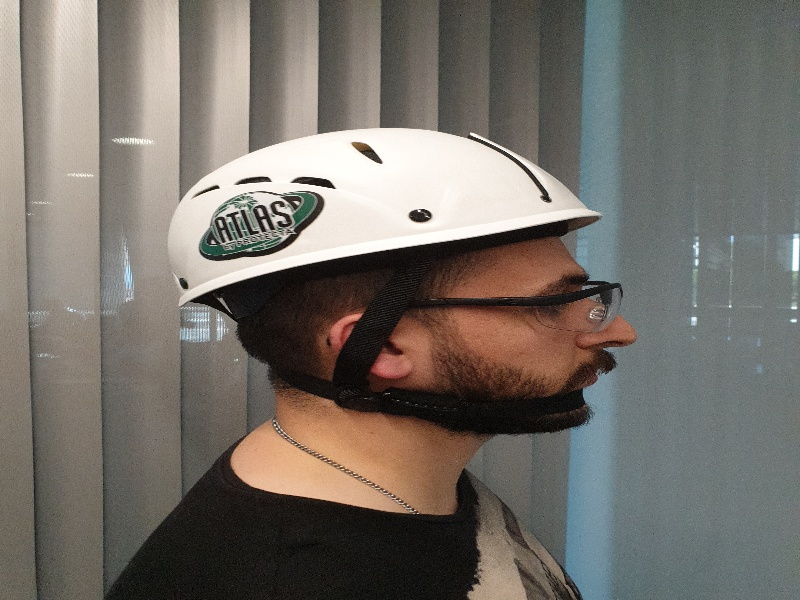Baret: (165, 110, 603, 284)
Gozluk: (412, 278, 626, 329)
